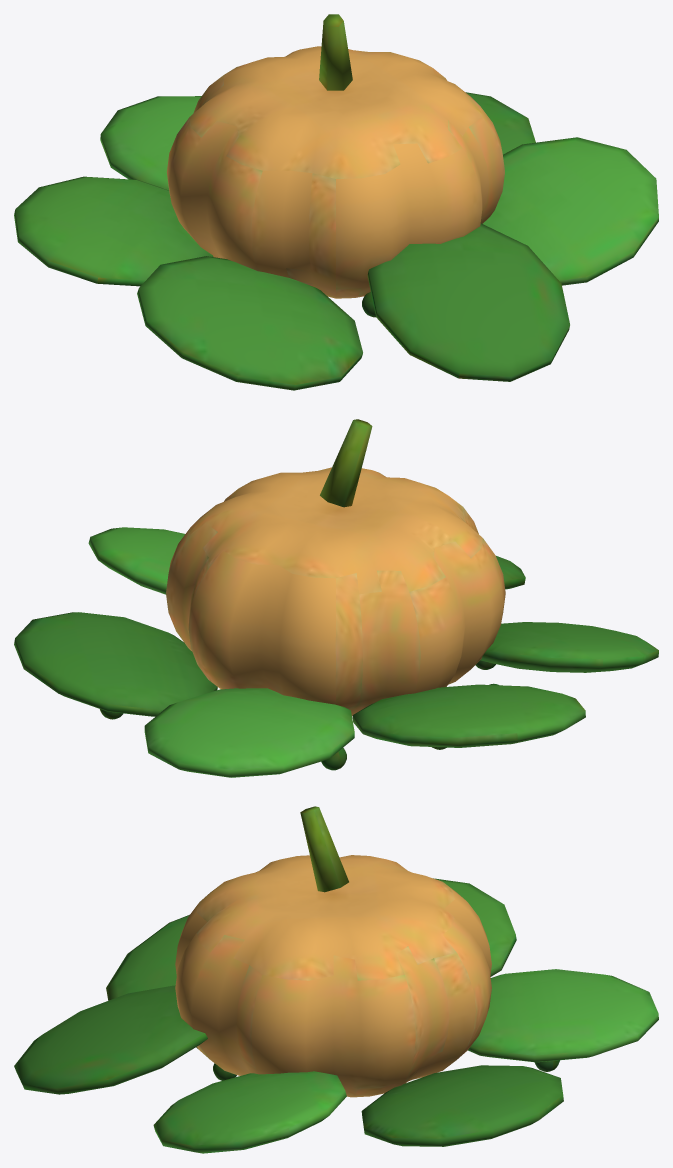
Rendered from crop_cantaloupe.glb.
3 renders of one model, top to bottom at view 1: azimuth 30°, elevation 25°; view 2: azimuth 150°, elevation 25°; view 3: azimuth 270°, elevation 25°, orthographic. The views are drawn at different scales.
Parts seen in each view (by area): view 1: crop_cantaloupe, fruit; view 2: fruit, crop_cantaloupe; view 3: fruit, crop_cantaloupe.
Boxes of the visible parts, x1,y1,x2,y2 form: crop_cantaloupe: (14, 14, 658, 390); fruit: (166, 46, 504, 298); fruit: (166, 467, 505, 715); crop_cantaloupe: (14, 419, 658, 777); fruit: (175, 855, 491, 1097); crop_cantaloupe: (14, 806, 658, 1153).
Bounding box in the file's own units: 0.3718 × 0.1749 × 0.3914.
Materials: 1 (1 with a texture image).
